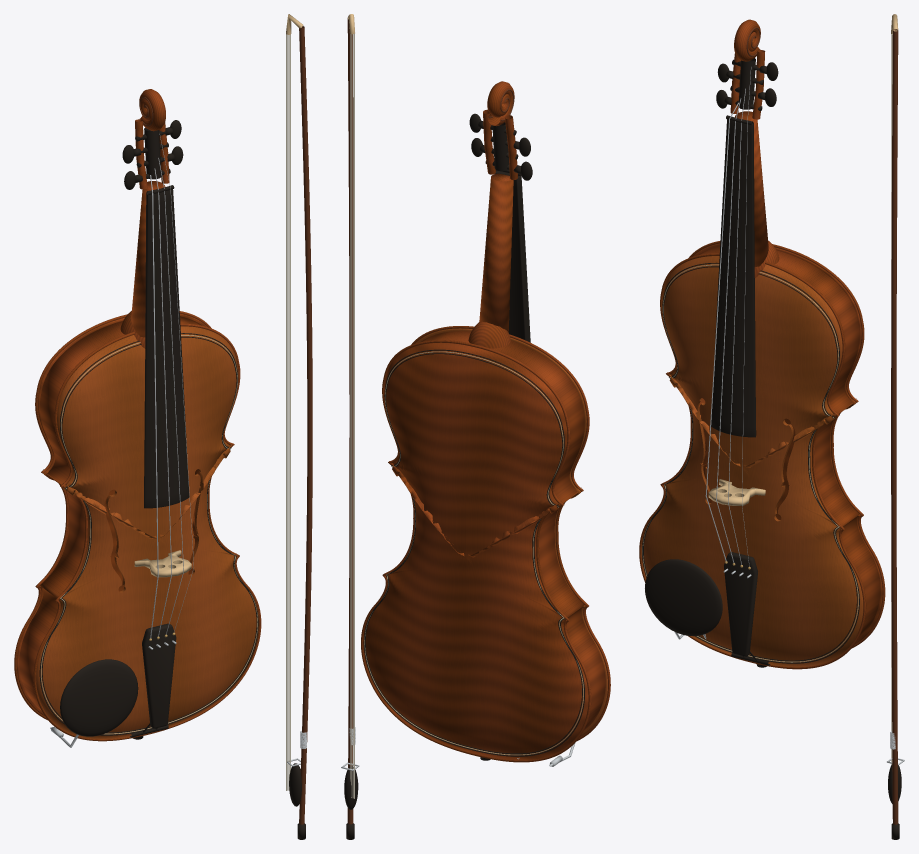
The model's file is violin.glb.
3 views of the same model, side by side, from view 1: azimuth 30°, elevation 25°; view 2: azimuth 150°, elevation 25°; view 3: azimuth 330°, elevation 25° (orthographic).
Parts seen in each view (by area): view 1: Carved spruce soundboard, Cambered tapered ebony fingerboard, Flamed maple ribs, Pernambuco bow stick, Ebony chinrest, Rounded plate edge, Ebony tailpiece, Arched two-piece maple back, Rounded plate edge.001, Carved maple neck, Individual bow hair ribbon.003, Front purfling.002 (+16 smaller); view 2: Arched two-piece maple back, Flamed maple ribs, Carved maple neck, Pernambuco bow stick, Rounded plate edge.001, Cambered tapered ebony fingerboard, Rounded plate edge, Back purfling.002, Back purfling, Carved spruce soundboard, Back purfling.001, Carved maple scroll volute (+12 smaller); view 3: Carved spruce soundboard, Cambered tapered ebony fingerboard, Flamed maple ribs, Pernambuco bow stick, Ebony chinrest, Rounded plate edge, Ebony tailpiece, Arched two-piece maple back, Rounded plate edge.001, Carved maple neck, Front purfling.002, Front purfling (+8 smaller).
Boxes of the visible parts, x1,y1,x2,y2 form: Carved spruce soundboard: (36,326,259,739); Cambered tapered ebony fingerboard: (144,189,189,508); Flamed maple ribs: (19,316,201,709); Pernambuco bow stick: (299,26,312,824); Ebony chinrest: (60,659,138,736); Rounded plate edge: (33,323,261,741); Ebony tailpiece: (142,623,176,728); Arched two-piece maple back: (17,313,207,716); Rounded plate edge.001: (14,311,211,720); Carved maple neck: (131,181,165,337); Individual bow hair ribbon.003: (287,35,288,790); Front purfling.002: (42,336,257,733); Arched two-piece maple back: (362,342,588,760); Flamed maple ribs: (421,331,605,730); Carved maple neck: (479,173,513,332); Pernambuco bow stick: (347,18,353,824); Rounded plate edge.001: (361,340,591,762); Cambered tapered ebony fingerboard: (494,170,530,342); Rounded plate edge: (411,326,610,741); Back purfling.002: (365,353,582,754); Back purfling: (363,349,584,756); Carved spruce soundboard: (415,328,607,736); Back purfling.001: (364,351,583,755); Carved maple scroll volute: (487,81,514,126); Carved spruce soundboard: (641,256,863,667); Cambered tapered ebony fingerboard: (711,119,756,437); Flamed maple ribs: (698,246,880,638); Pernambuco bow stick: (891,29,898,824); Ebony chinrest: (645,559,722,636); Rounded plate edge: (639,253,866,669); Ebony tailpiece: (724,552,757,656); Arched two-piece maple back: (692,243,882,643); Rounded plate edge.001: (689,241,885,648); Carved maple neck: (735,111,768,266); Front purfling.002: (643,266,857,661); Front purfling: (642,262,859,663).
Bounding box in the file's own units: 247 × 722 × 97.92.
Materials: 9 (2 with a texture image).
